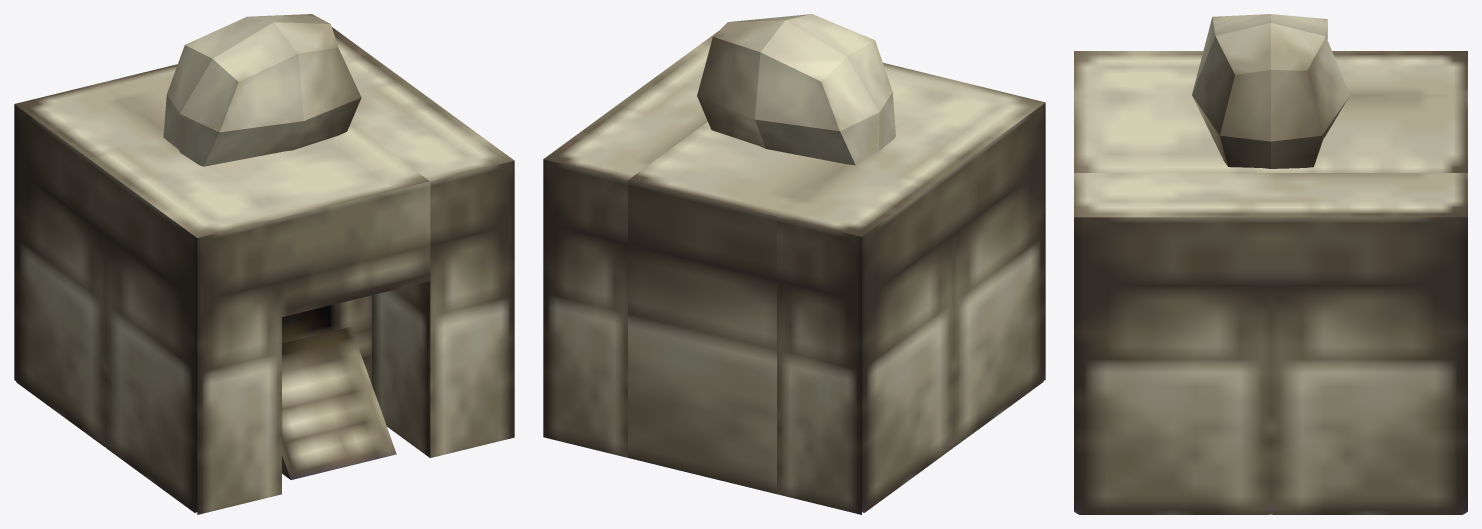
Rendered from Poly_World_Map_Tombstone_House_01.obj.
3 renders of one model, left to right at view 1: azimuth 30°, elevation 25°; view 2: azimuth 150°, elevation 25°; view 3: azimuth 270°, elevation 25°, orthographic. The views are drawn at different scales.
Visible parts, largest first — view 1: Grid.001, Grid.003, Grid.002; view 2: Grid.001, Grid.003; view 3: Grid.001, Grid.003.
Part boxes in pixels (x1=…): Grid.001: x1=14, y1=27, x2=514, y2=514; Grid.003: x1=163, y1=14, x2=361, y2=166; Grid.002: x1=282, y1=327, x2=396, y2=479; Grid.001: x1=543, y1=31, x2=1045, y2=514; Grid.003: x1=697, y1=14, x2=895, y2=165; Grid.001: x1=1074, y1=51, x2=1467, y2=514; Grid.003: x1=1192, y1=14, x2=1349, y2=168.
Bounding box in the file's own units: 0.6 × 0.695 × 0.6.
1 material, 1 textured.
